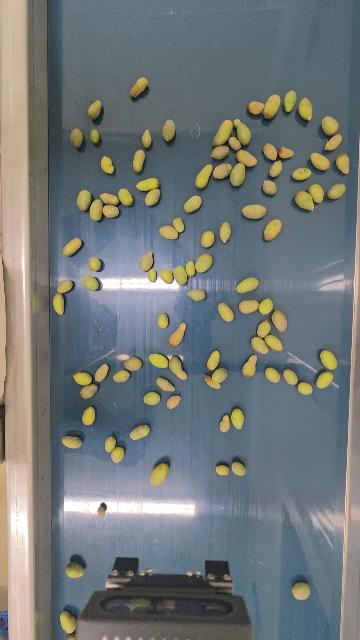Baby Potato: (212, 118, 234, 147), (168, 354, 188, 381), (294, 189, 316, 212), (263, 217, 283, 242), (263, 93, 282, 119), (168, 322, 187, 348), (309, 150, 331, 172), (291, 580, 314, 601), (129, 75, 149, 99), (149, 462, 169, 486), (229, 162, 248, 187), (234, 119, 252, 145), (195, 163, 213, 189), (241, 203, 268, 220), (235, 148, 258, 167), (319, 348, 338, 371), (236, 276, 260, 294), (62, 236, 82, 257), (271, 309, 288, 333), (249, 335, 269, 355), (242, 353, 258, 378), (298, 96, 314, 121), (321, 115, 340, 136), (59, 610, 76, 633), (335, 152, 351, 176), (264, 333, 284, 352), (212, 161, 232, 180), (130, 423, 151, 441), (195, 253, 213, 274), (230, 406, 245, 431), (308, 182, 325, 204), (217, 301, 234, 323), (76, 189, 92, 212), (324, 133, 343, 152), (161, 118, 176, 142), (327, 182, 347, 200), (283, 89, 298, 113), (316, 369, 334, 389), (148, 352, 169, 369), (206, 349, 221, 372), (136, 177, 159, 192), (89, 198, 104, 221), (173, 263, 188, 286), (184, 195, 202, 214), (282, 366, 299, 386), (262, 141, 279, 161), (79, 382, 99, 399), (132, 149, 146, 173), (155, 376, 176, 392), (69, 127, 84, 149), (61, 435, 83, 450), (238, 299, 260, 314), (211, 144, 230, 161), (118, 187, 134, 207), (65, 562, 85, 578), (159, 224, 179, 240), (268, 158, 284, 178), (72, 371, 93, 386), (99, 191, 120, 206), (52, 292, 65, 316), (264, 366, 281, 384), (81, 274, 99, 291), (144, 188, 160, 207), (200, 229, 215, 249), (81, 406, 96, 426), (87, 99, 102, 119), (94, 363, 109, 383), (219, 221, 232, 244), (291, 167, 312, 181), (212, 366, 229, 383), (165, 393, 182, 410), (257, 319, 272, 338), (124, 356, 143, 371), (139, 251, 153, 271), (262, 179, 278, 196), (231, 460, 247, 477), (277, 145, 295, 160), (247, 100, 265, 115), (102, 204, 120, 219), (259, 297, 273, 316), (100, 155, 114, 174), (297, 380, 313, 396), (112, 369, 130, 383), (143, 391, 161, 405), (203, 374, 219, 389), (141, 129, 153, 149), (56, 279, 73, 293), (111, 446, 125, 463), (187, 289, 206, 301), (227, 135, 242, 150), (88, 256, 102, 272), (160, 267, 173, 284), (220, 413, 231, 433), (104, 436, 117, 452), (215, 463, 230, 476), (172, 216, 184, 232), (157, 313, 169, 329), (185, 260, 196, 277), (89, 128, 100, 144), (148, 268, 157, 282), (97, 506, 105, 517), (65, 634, 77, 640)
